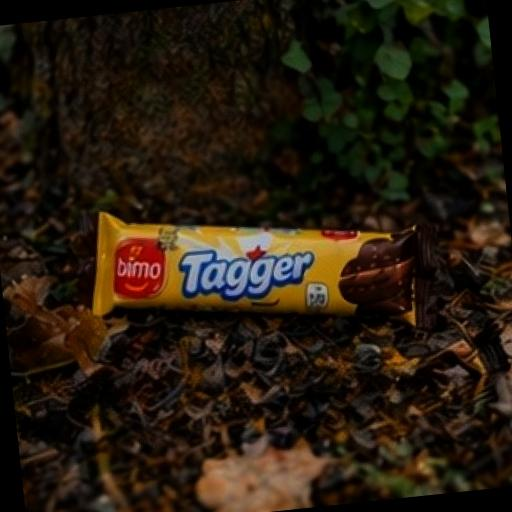tagger: (48, 136, 498, 436)
